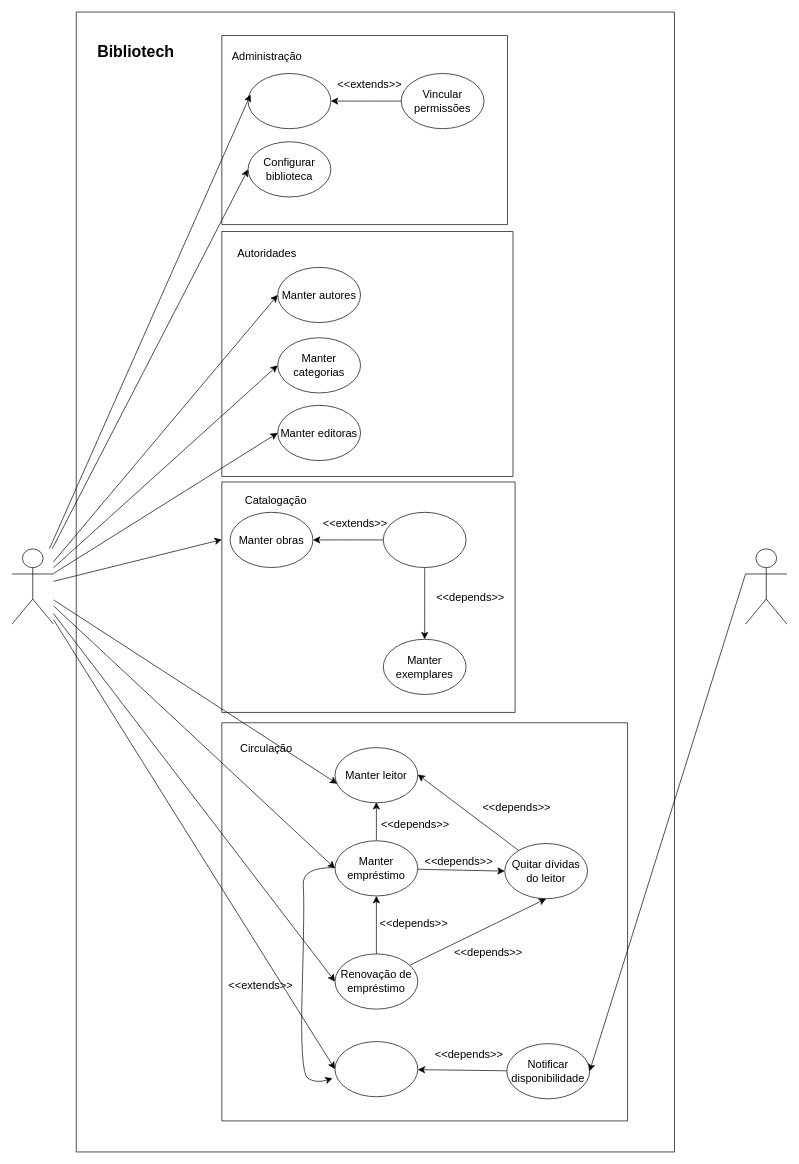
Some shapes in this 799 by 1164 pixel diagram are drawn without their labels. The shapes that lost their labels are listed below. From the top down, each one's box as (x1, y1, x2, y2) in pixels, then its label:
(247, 73, 331, 129): Manter usuário
(383, 512, 466, 568): Vincular exemplares
(11, 548, 53, 624): Usuário
(745, 548, 787, 624): Sistema
(334, 1041, 418, 1097): Manter reservas
